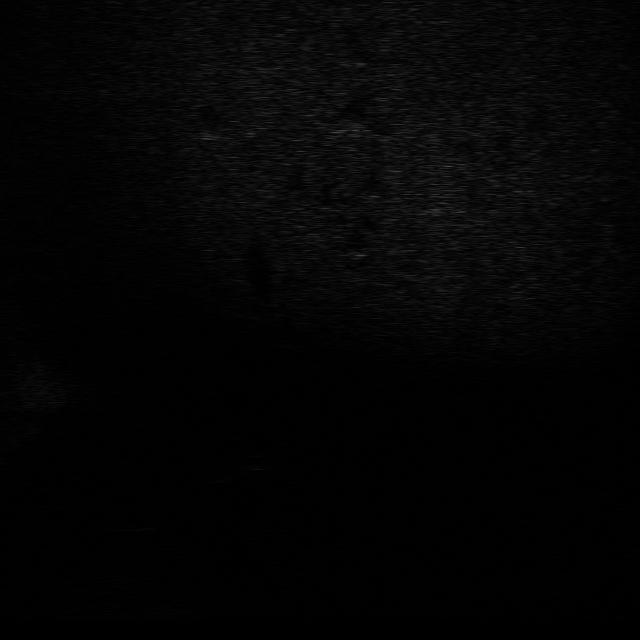ball: (230, 446, 279, 475)
square cage: (128, 490, 218, 525)
